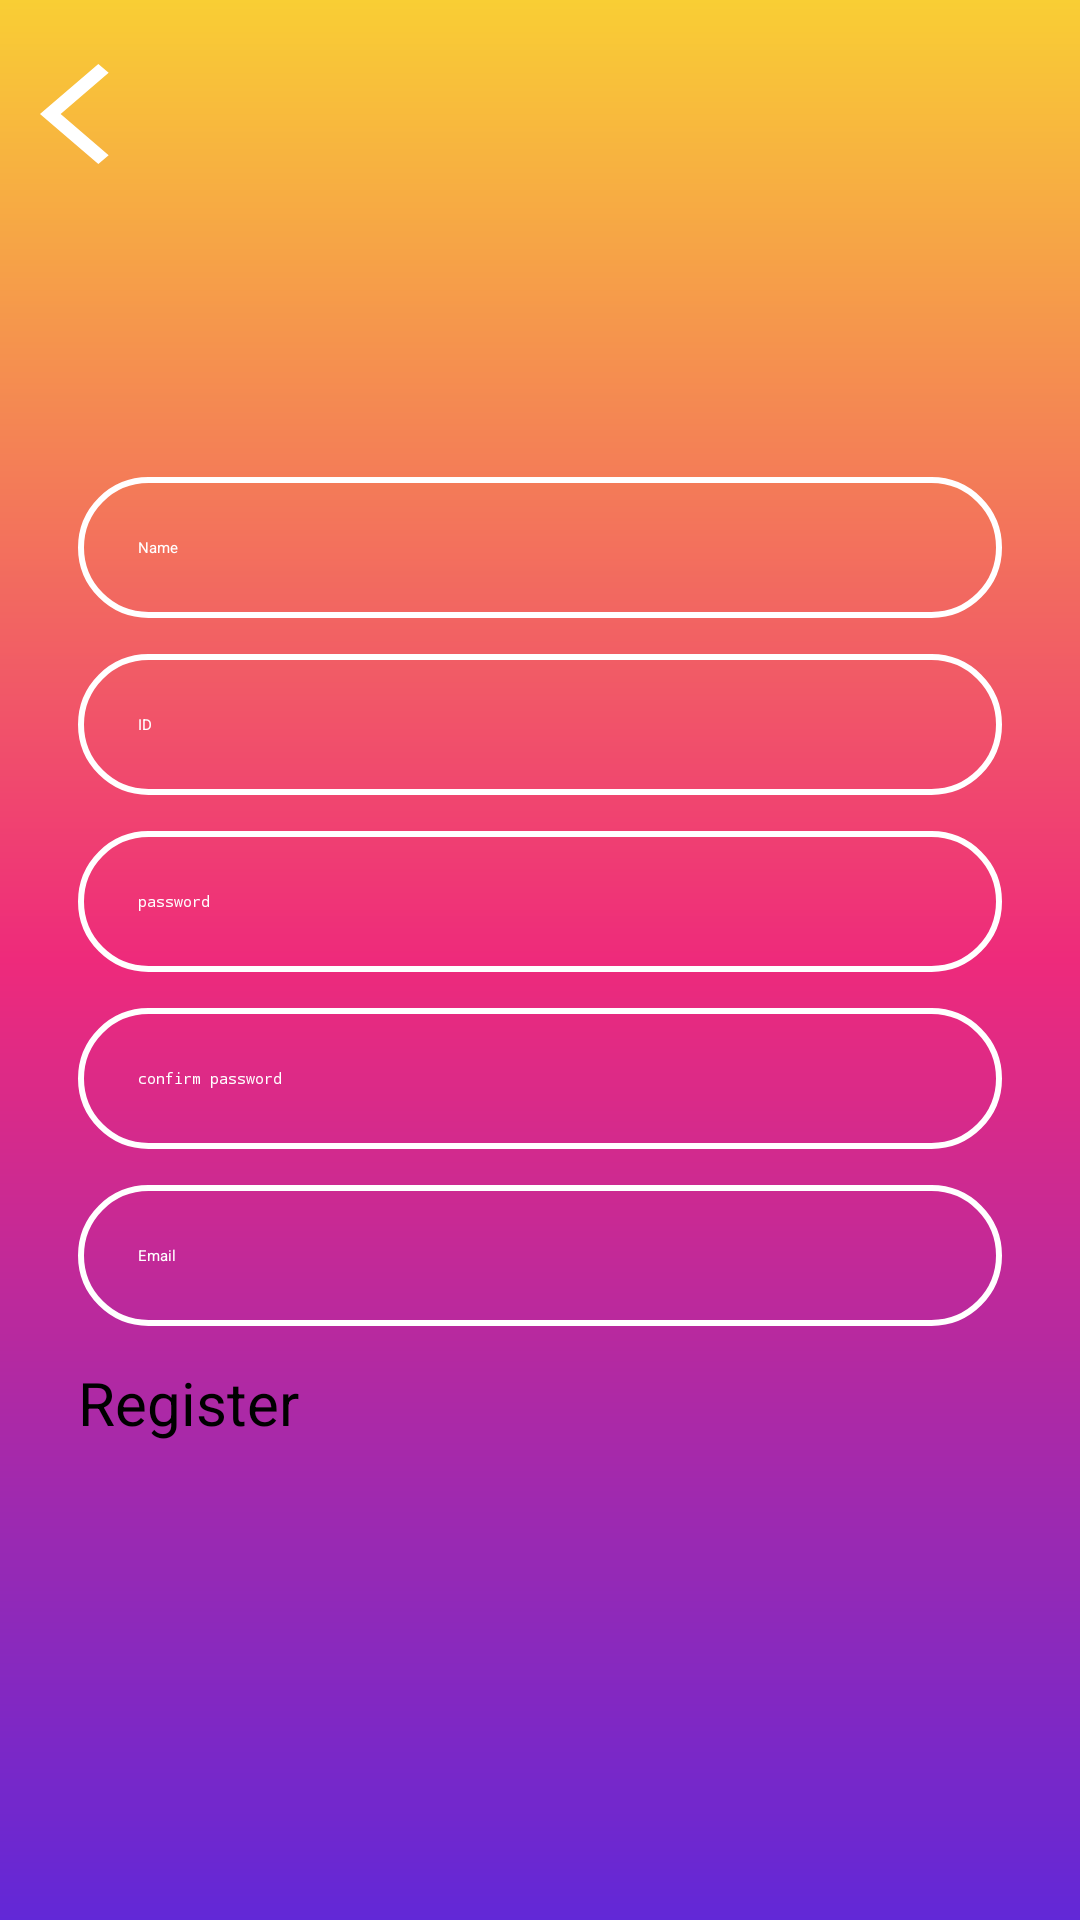

Where to tap for icons on this 1080px×1920px app screen, as (x=x, y=y):
arrow back: (x=74, y=114)
